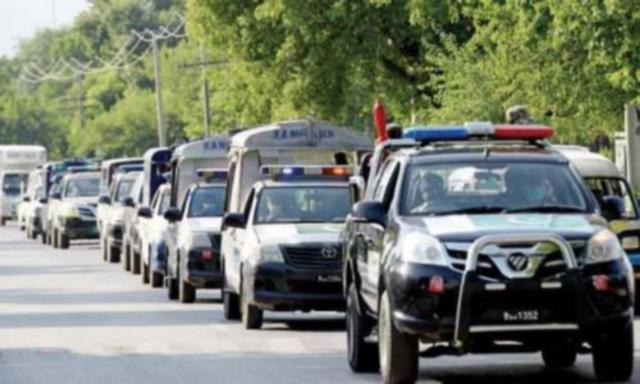police_car: (347, 124, 635, 384), (223, 122, 366, 326)
